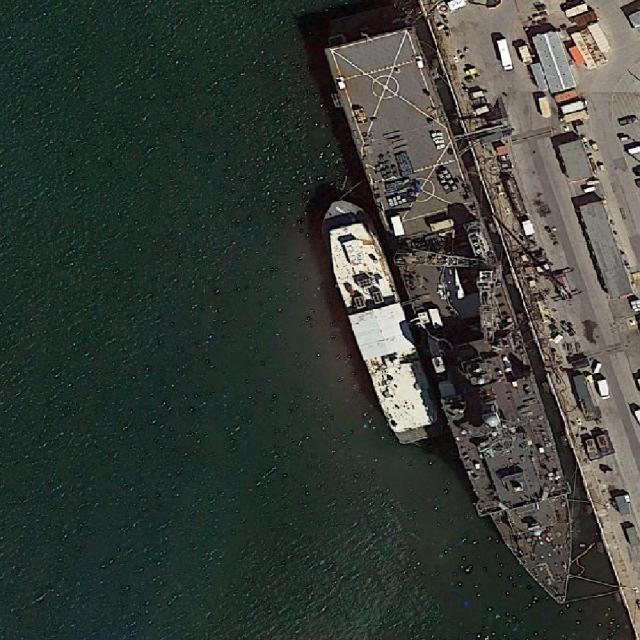Landing: (319, 15, 607, 623)
Other Warship: (311, 190, 449, 454)
